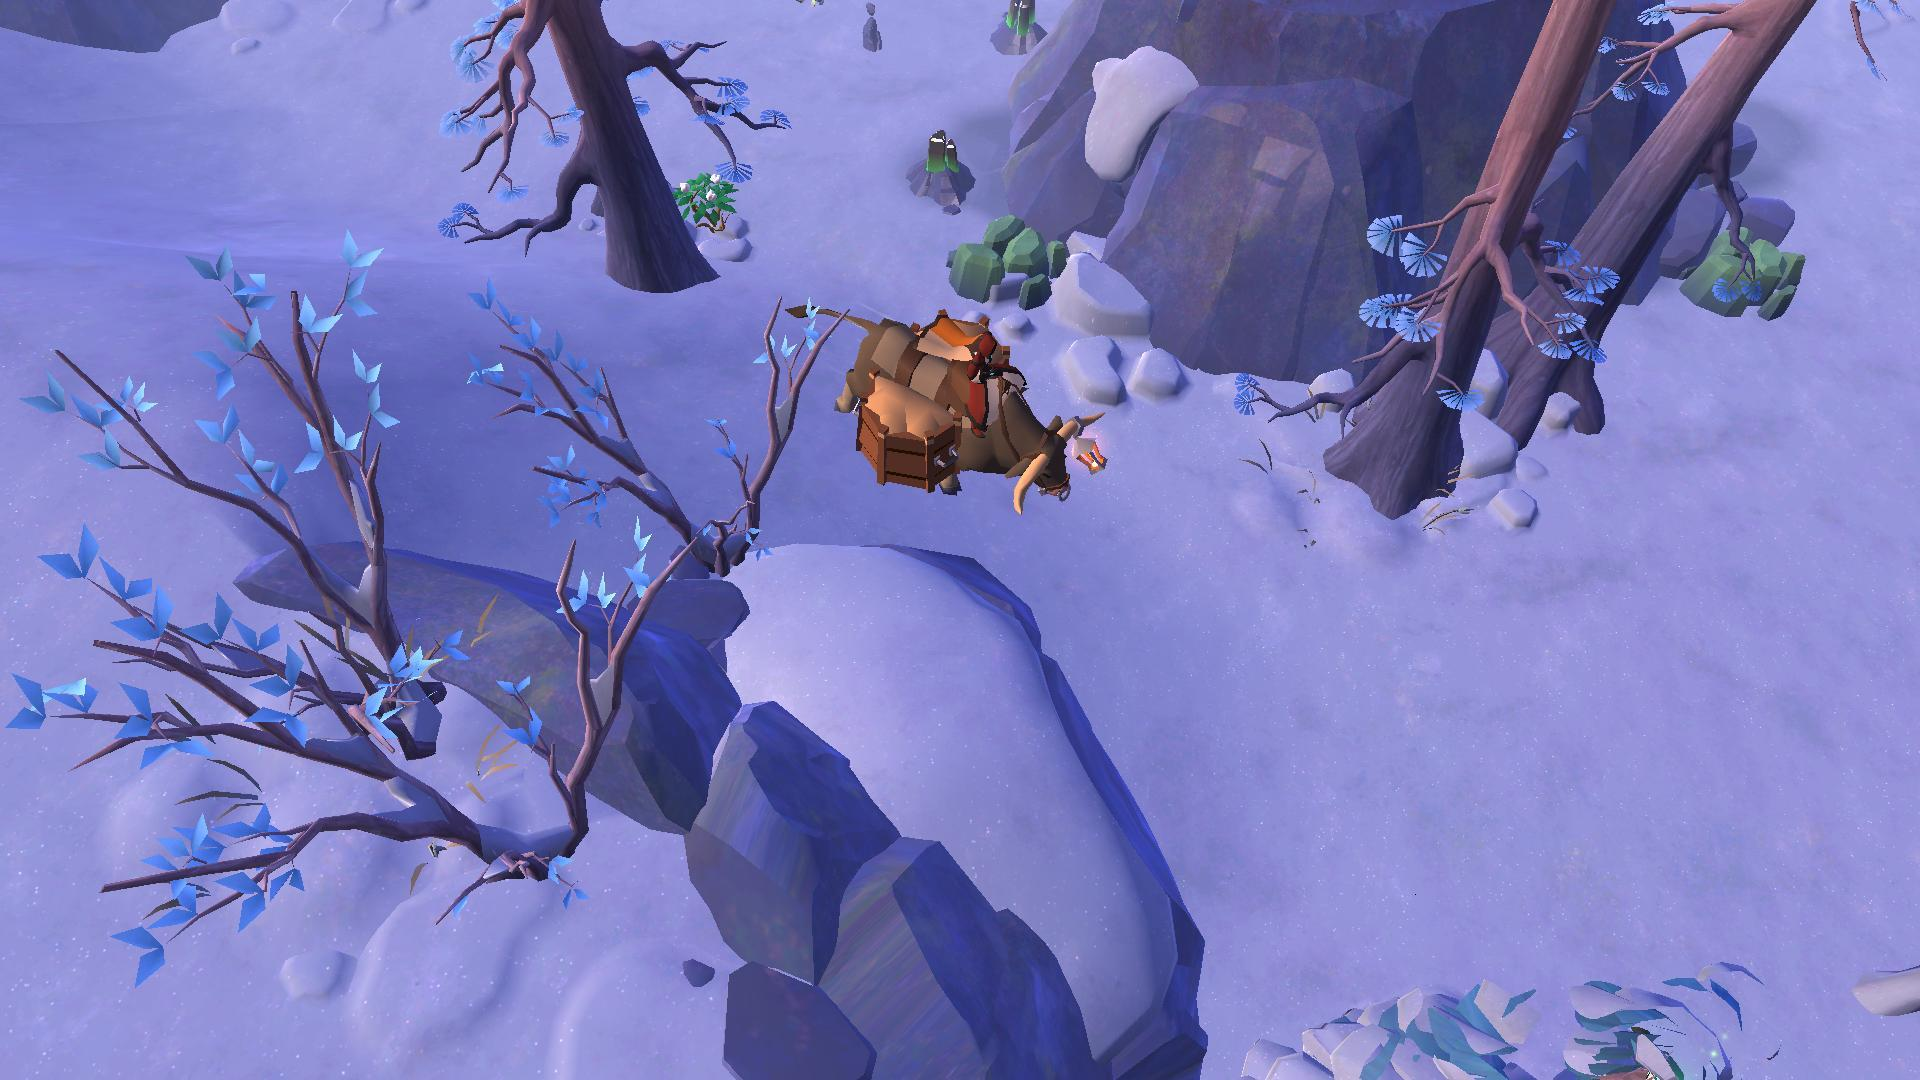fiber_t3: (666, 160, 742, 231)
ore_t3: (914, 120, 967, 182), (998, 0, 1050, 45)
rock_t3: (936, 204, 1084, 314), (1684, 216, 1812, 323)
